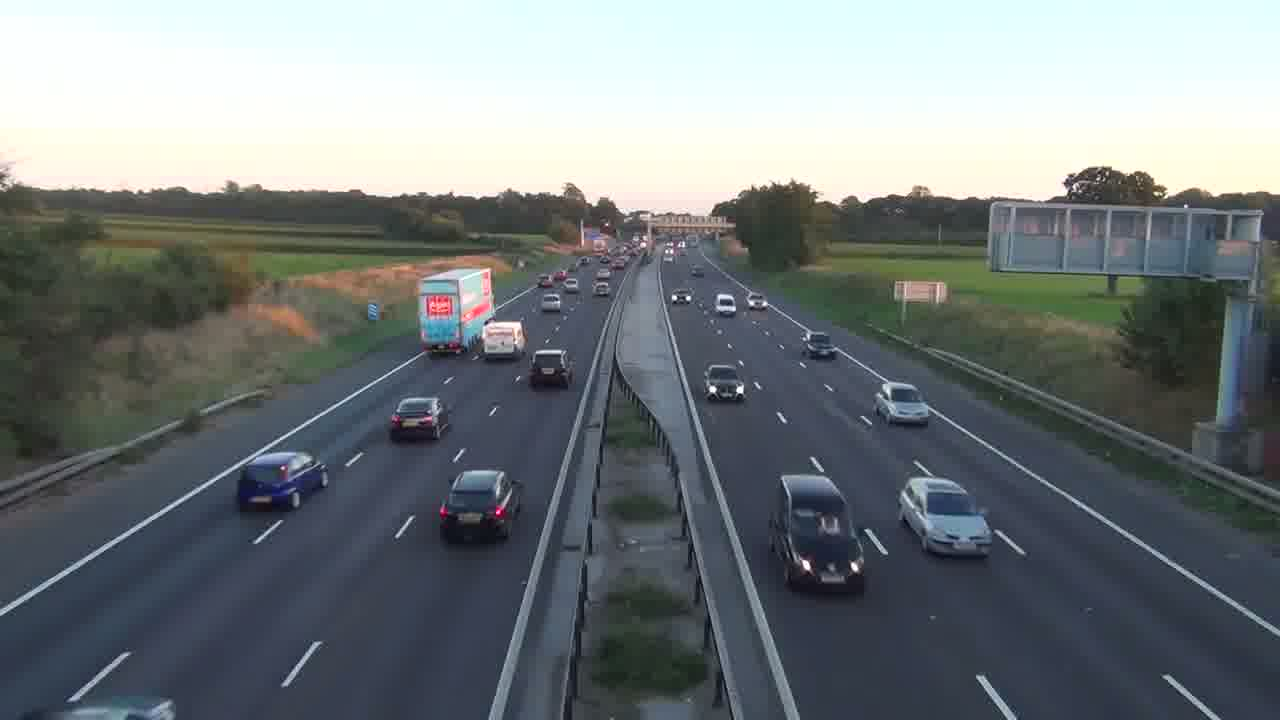car: (897, 475, 994, 559), (437, 468, 525, 544), (236, 449, 329, 512), (388, 396, 451, 442), (874, 381, 930, 426), (528, 348, 575, 389), (704, 363, 746, 403)
truck: (418, 266, 496, 355), (528, 348, 575, 389), (481, 320, 528, 361)
